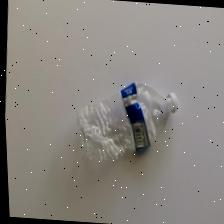plastic: (76, 82, 177, 162)
